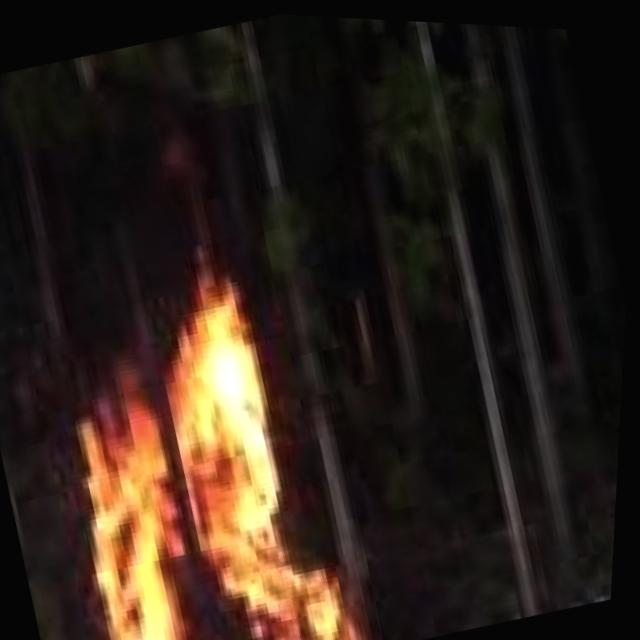fire: (0, 278, 412, 640)
